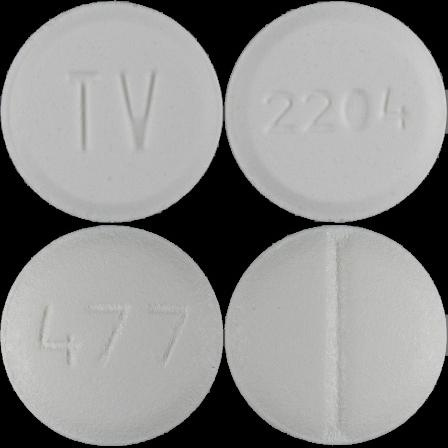76237-205: (0, 0, 224, 224)
